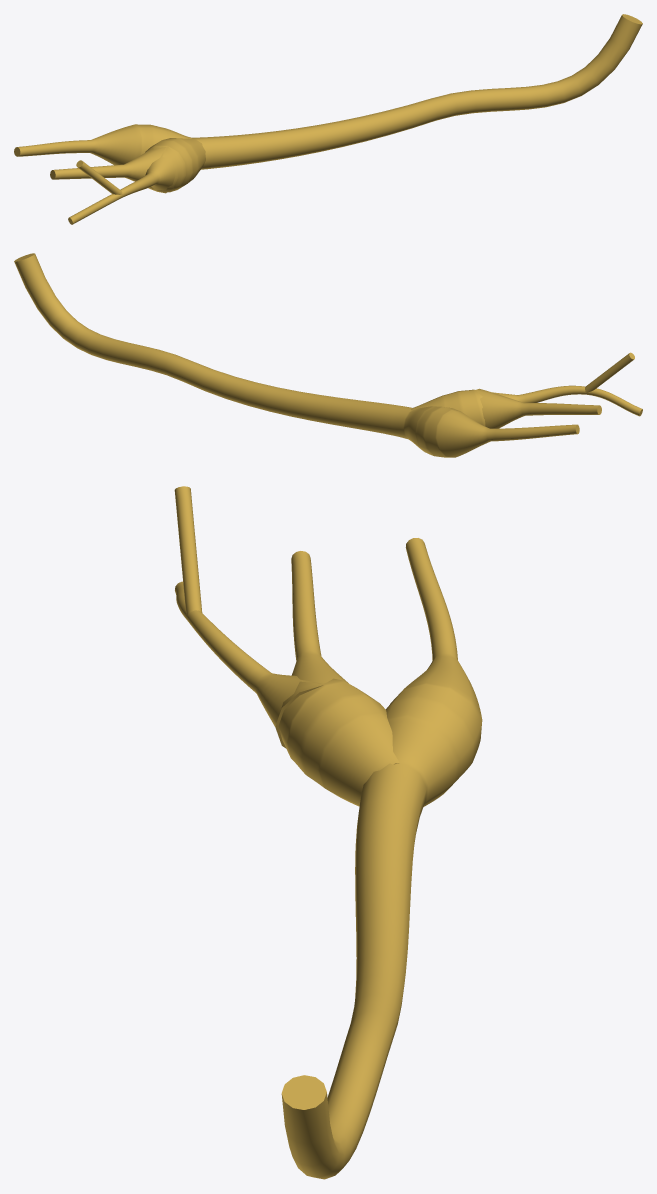
The picture shows the model from 3 angles, top to bottom: view 1: azimuth 30°, elevation 25°; view 2: azimuth 150°, elevation 25°; view 3: azimuth 270°, elevation 25°; orthographic projection. The views are drawn at different scales.
Parts seen in each view (by area): view 1: 右侧前庭神经; view 2: 右侧前庭神经; view 3: 右侧前庭神经.
Part boxes in pixels (x1,y1,x2,y2): 右侧前庭神经: [14, 14, 642, 224]; 右侧前庭神经: [14, 253, 642, 457]; 右侧前庭神经: [174, 486, 482, 1179].
Size of the model in its own units: 0.0313 by 0.00484 by 0.00699.
